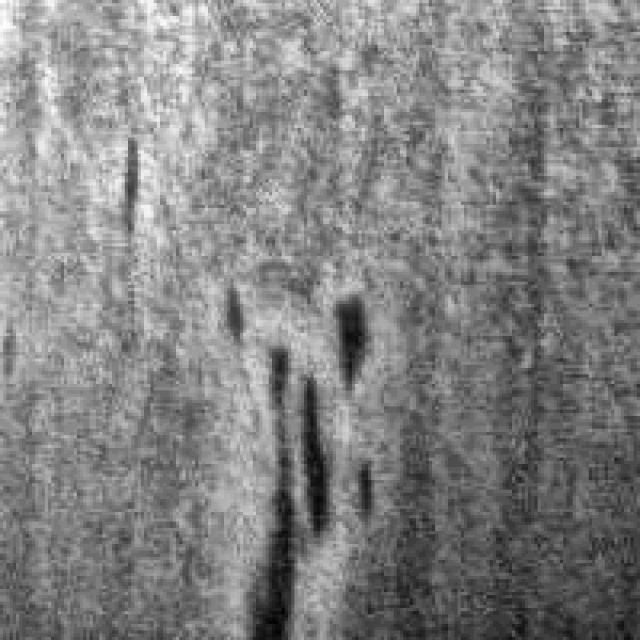Patches: (215, 284, 372, 634), (317, 269, 381, 397), (106, 125, 150, 240)
